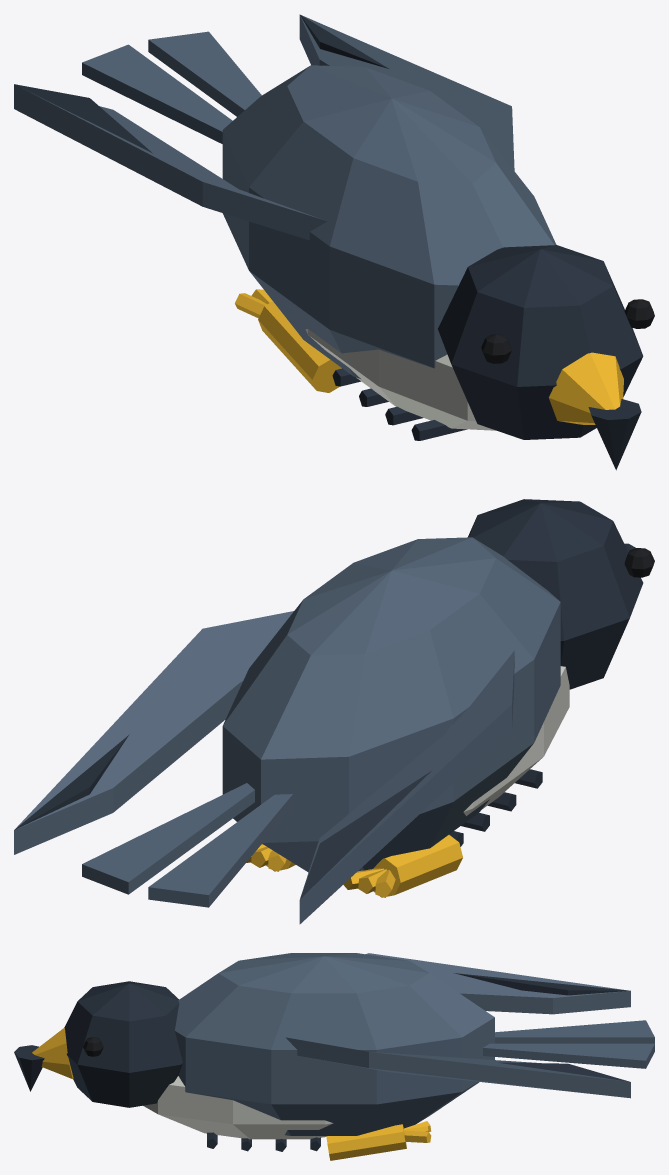
Rendered from falcon.glb.
The picture shows the model from 3 angles, top to bottom: view 1: azimuth 30°, elevation 25°; view 2: azimuth 150°, elevation 25°; view 3: azimuth 270°, elevation 25°; orthographic projection. The views are drawn at different scales.
Visible parts, largest first — view 1: falcon body; view 2: falcon body; view 3: falcon body.
Part boxes in pixels (left/top/right/bottom): falcon body: left=14, top=14, right=654, bottom=470; falcon body: left=14, top=499, right=654, bottom=924; falcon body: left=14, top=953, right=654, bottom=1160.
Bounding box in the file's own units: 0.164 × 0.1439 × 0.45.
